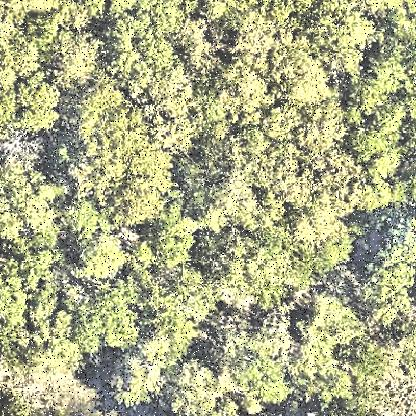tree-top: (64, 82, 180, 233), (198, 230, 318, 308), (135, 267, 209, 365), (1, 255, 72, 356), (108, 3, 190, 87), (268, 145, 364, 216), (284, 1, 374, 69), (351, 61, 407, 164), (356, 247, 416, 335), (293, 294, 362, 368), (205, 1, 283, 64), (189, 145, 261, 213), (2, 359, 92, 411), (268, 37, 330, 111), (108, 343, 176, 407), (199, 67, 270, 127), (68, 291, 138, 351), (1, 171, 52, 250), (266, 103, 346, 153), (228, 345, 294, 405), (11, 81, 71, 138), (359, 169, 416, 227), (41, 30, 101, 84), (145, 216, 198, 270), (77, 229, 128, 283), (345, 341, 393, 390), (1, 130, 47, 174)
